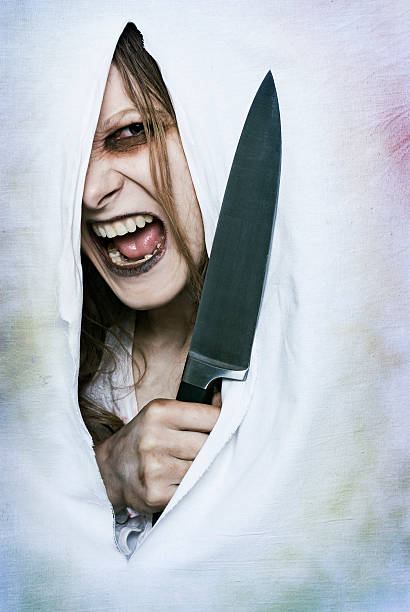knife: (186, 67, 285, 374)
